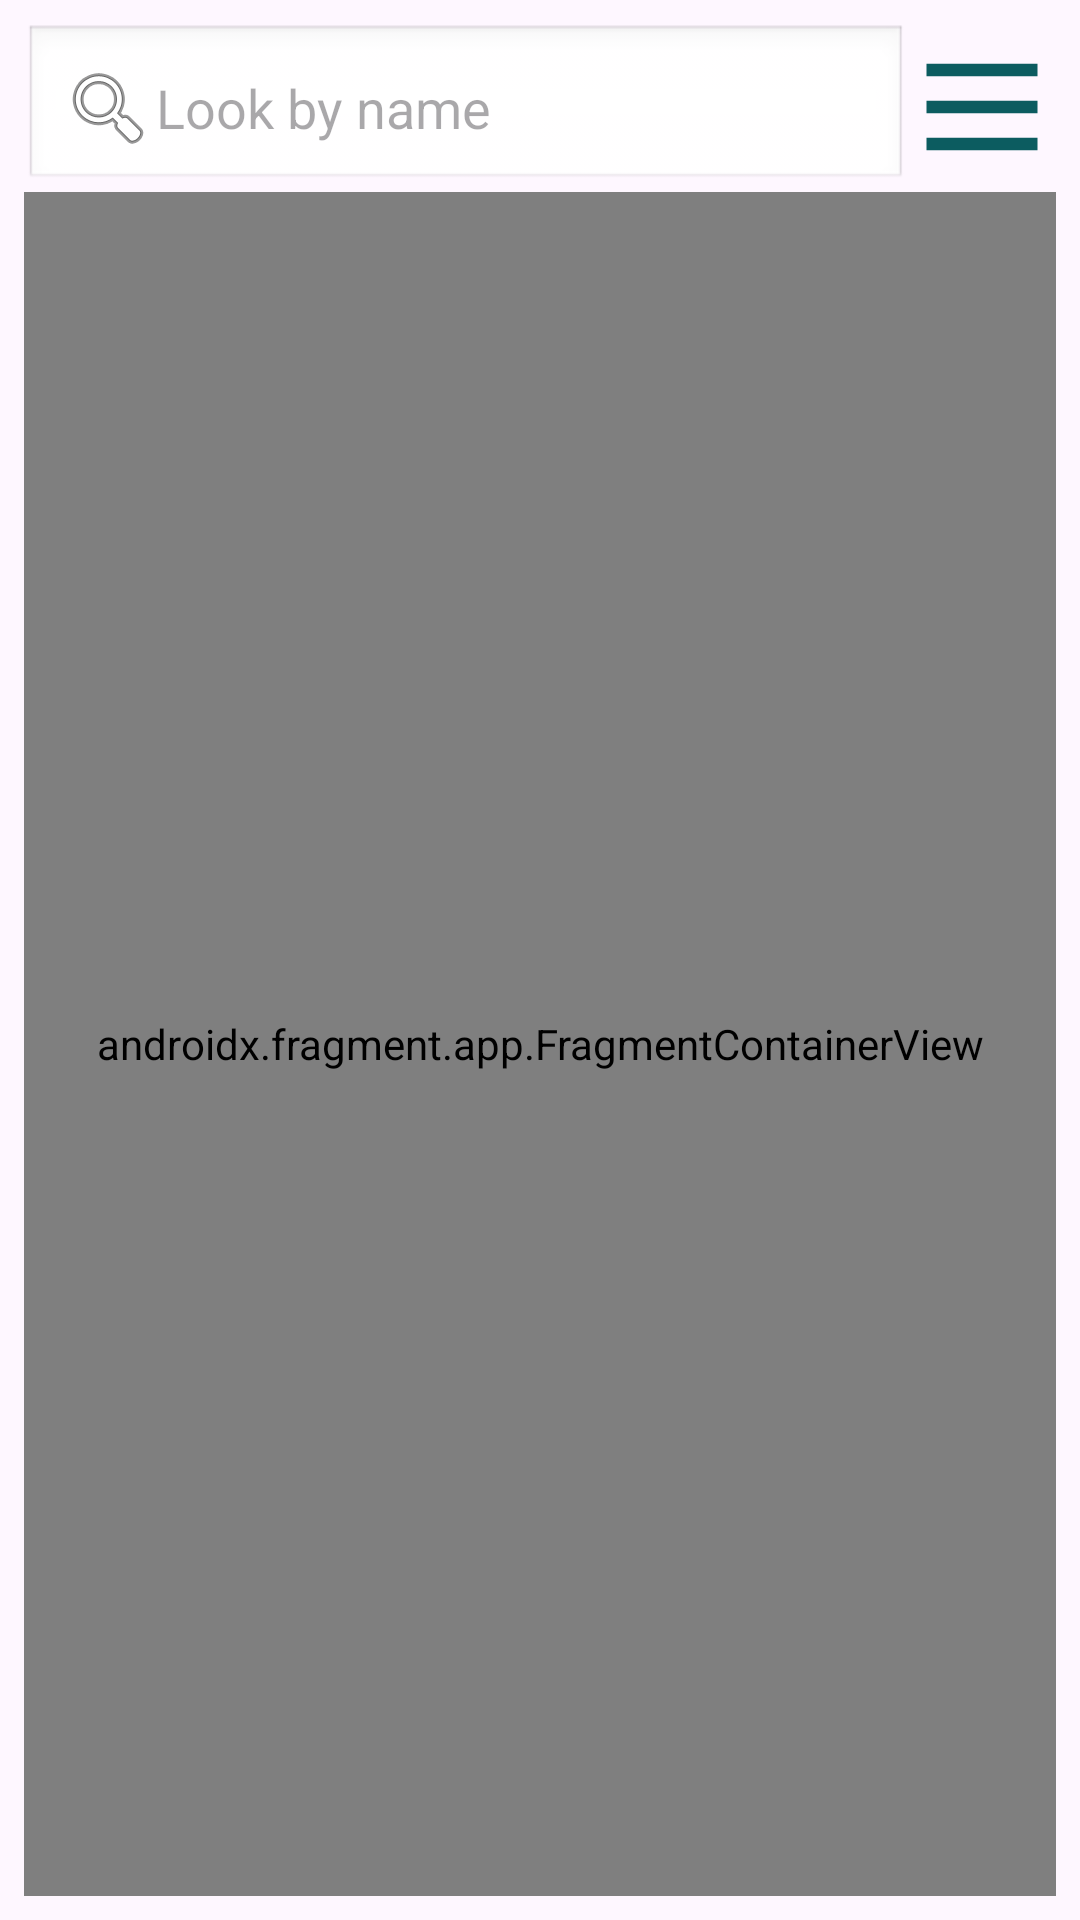

Where to tap for icons on this 1080x1920 app screen, as [x,y]:
dehaze: [982,107]
